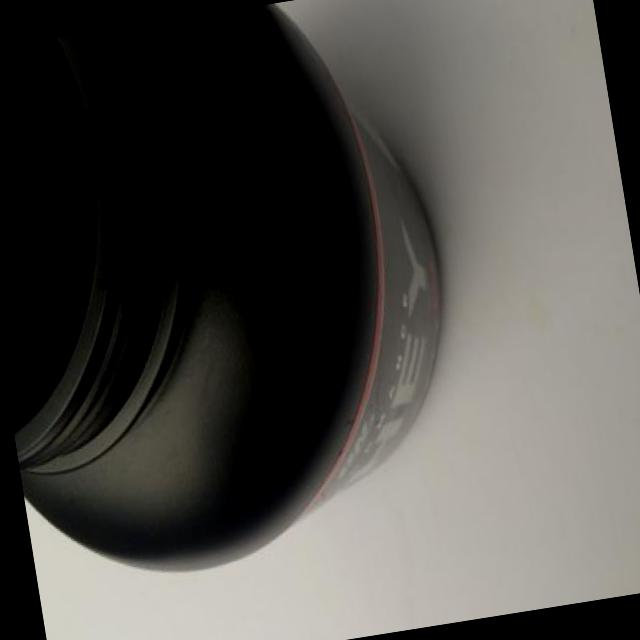Recycle: (0, 0, 479, 594)
